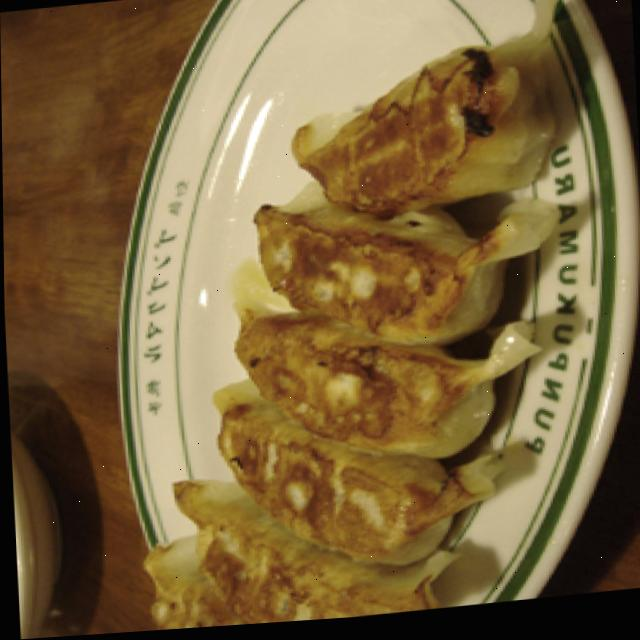带馅早点: (98, 0, 632, 635)
